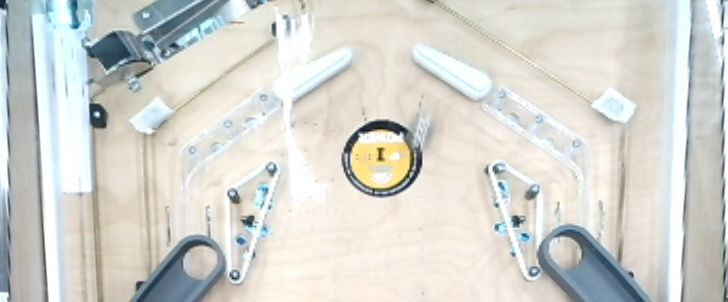ball: (404, 97, 434, 149)
flipper-left: (409, 39, 496, 104)
flipper-right: (270, 47, 355, 105)
